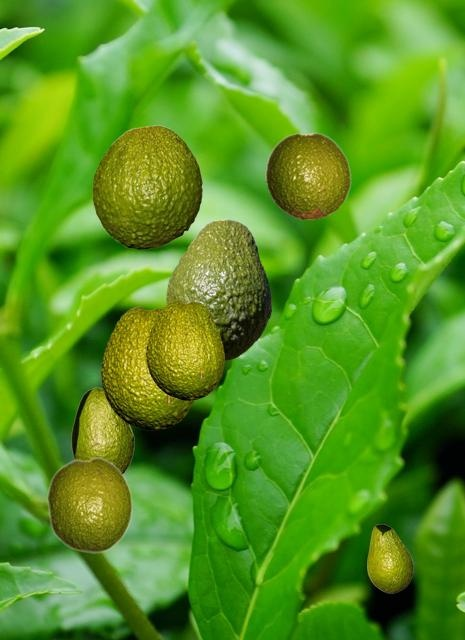avocado: (166, 219, 270, 360), (92, 125, 201, 248), (101, 306, 194, 429), (46, 456, 132, 553), (146, 300, 223, 399), (265, 132, 351, 219), (71, 387, 133, 473), (367, 524, 412, 592)
